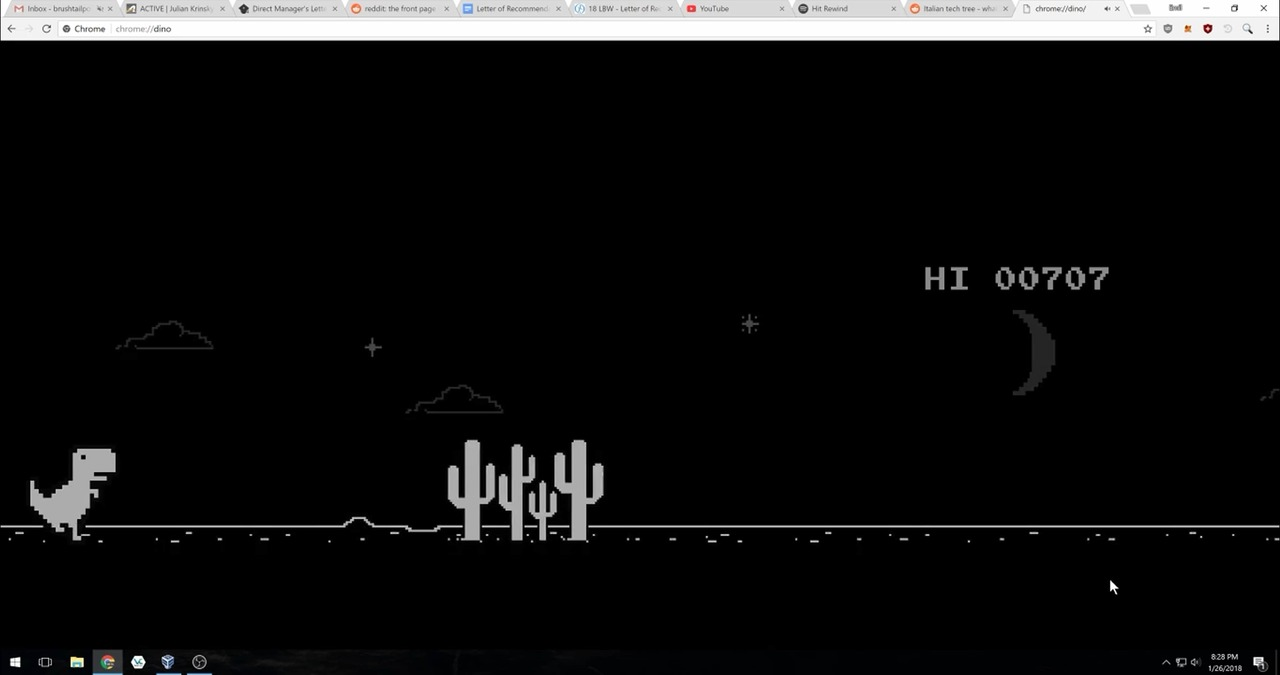cactus: (445, 438, 606, 546)
dinosaur: (27, 445, 118, 546)
